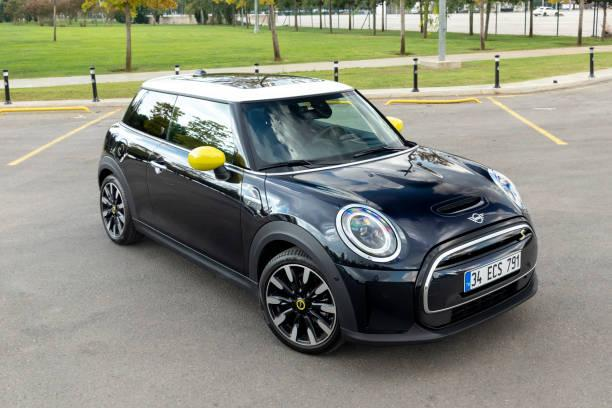mini: (459, 208, 494, 233)
